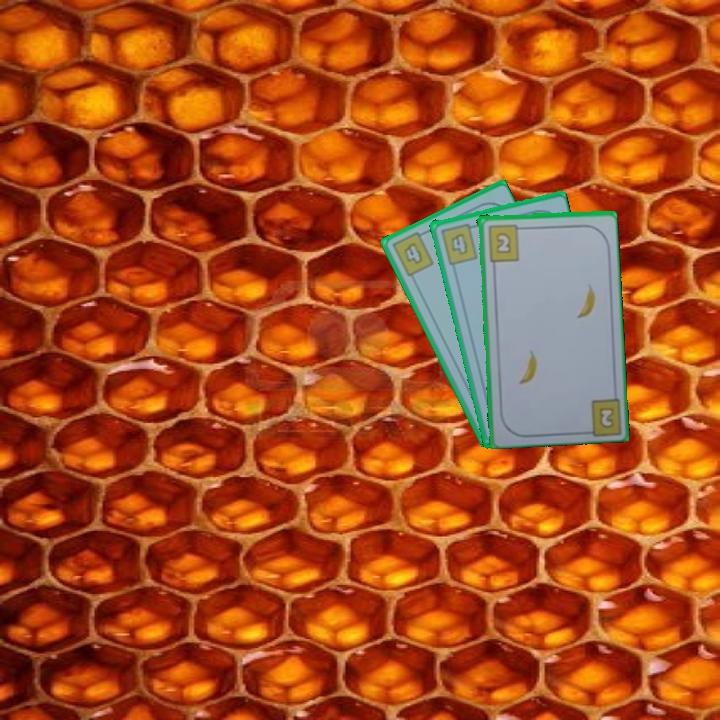2b: (484, 221, 526, 264), (595, 403, 617, 431)
4b: (388, 227, 436, 280), (437, 220, 480, 267)
